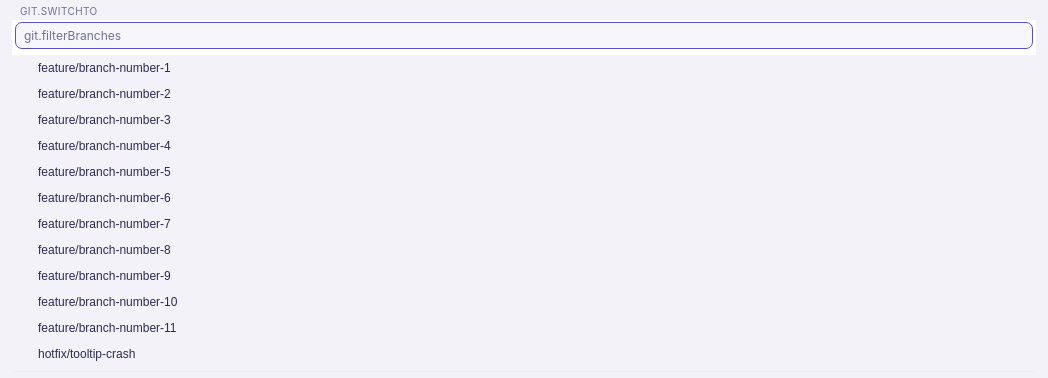
GitBranchList › the filter matches a substring anywhere in the name, not just the prefix
Type "tooltip" into the field labelled "git.filterBranches". click: [524, 36]
box: [15, 22, 1033, 49]
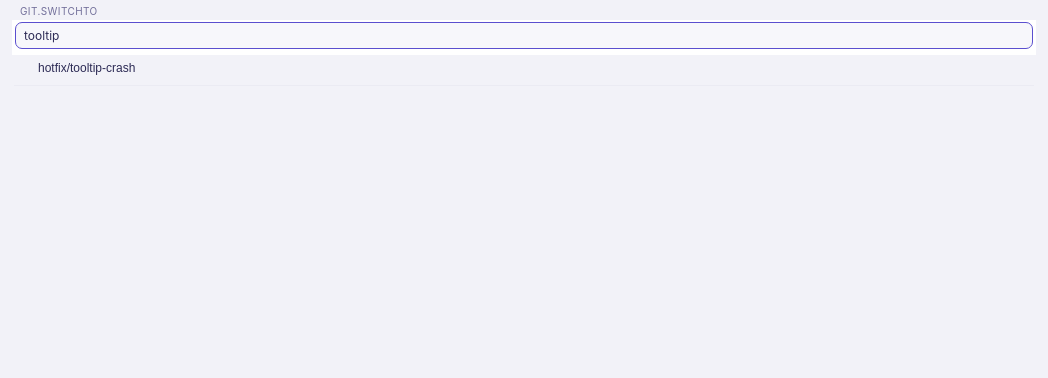
Expected: the menu items read "hotfix/tooltip-crash", in this order, [12, 55, 1036, 81]
